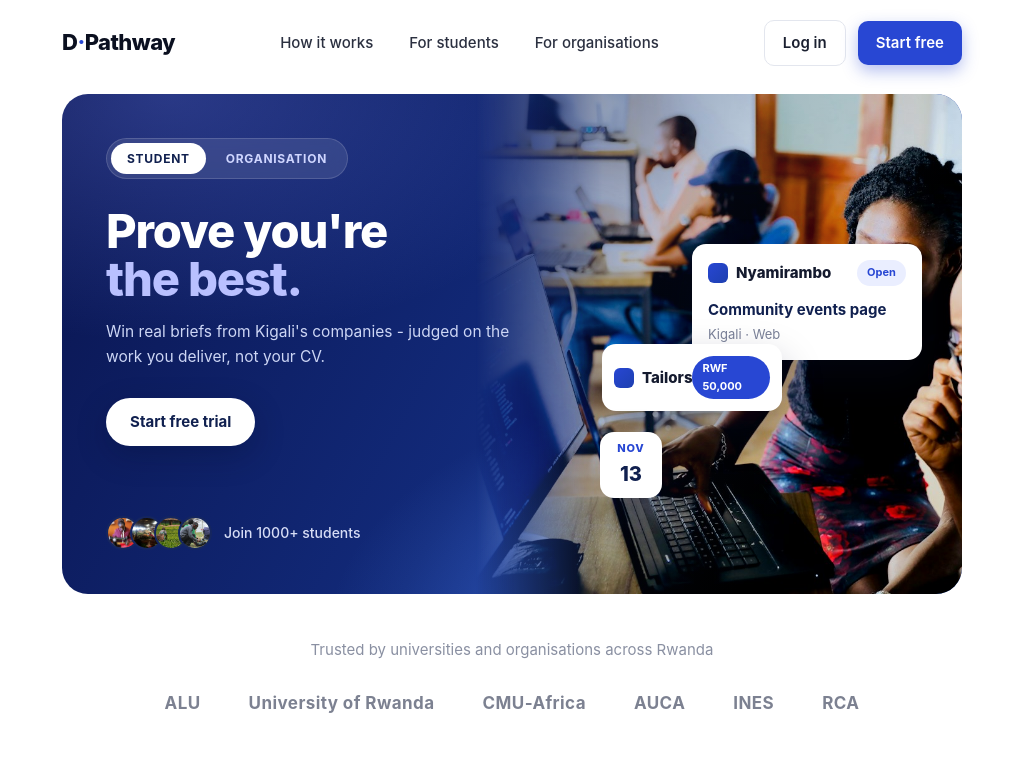
Test: HeroScreen › switches to the organisation view and retargets the CTA
Click the button "ORGANISATION" at (276, 159), box [210, 143, 343, 174]
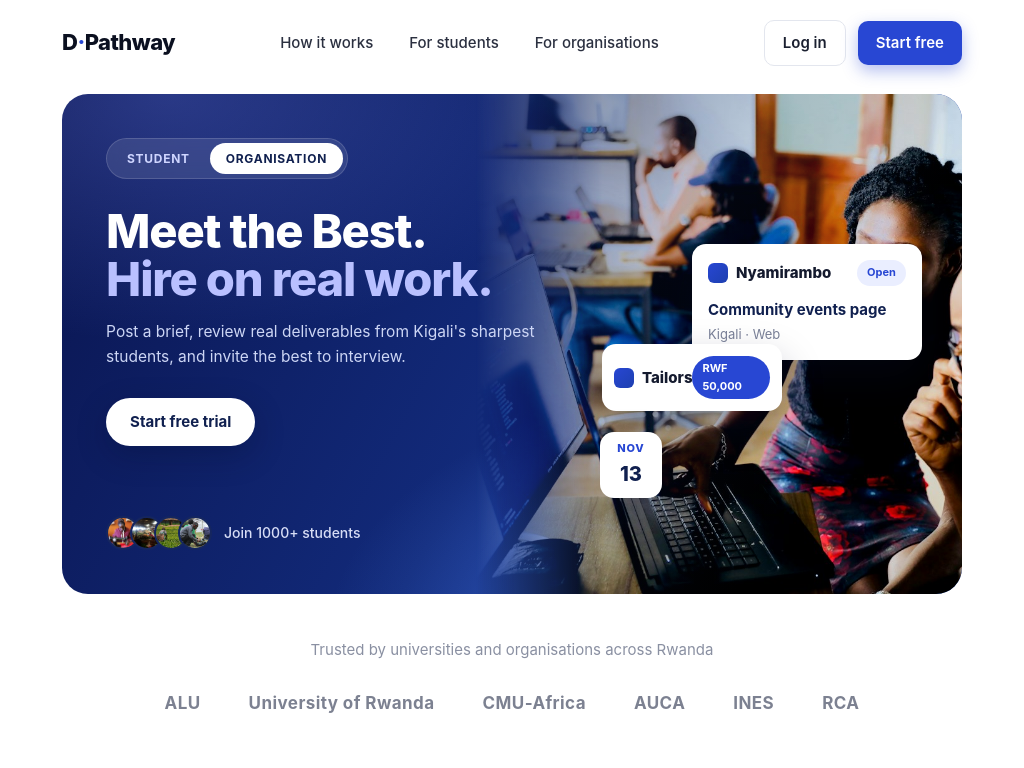
Check: the heading "Meet the Best.Hire on real work." is shown, box [106, 202, 493, 307]
